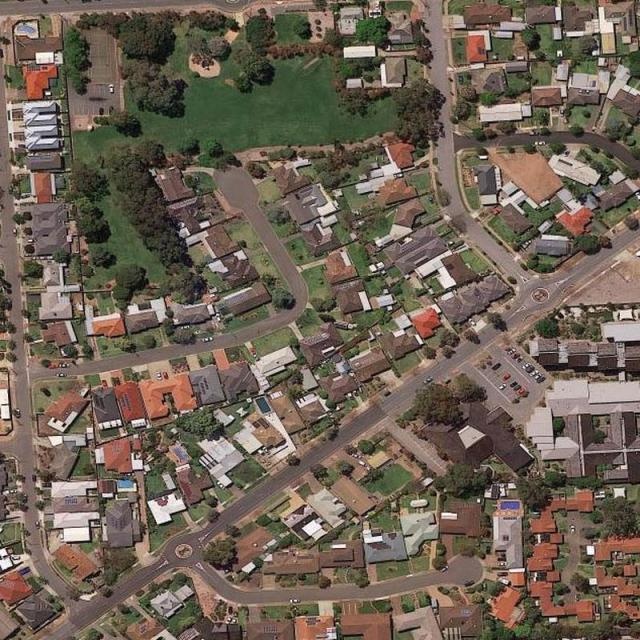vehicle: (422, 377, 434, 386), (222, 566, 233, 574), (358, 460, 369, 468), (216, 481, 226, 489), (289, 598, 302, 604), (261, 446, 269, 455), (440, 566, 449, 574), (11, 227, 17, 238), (521, 362, 532, 368), (570, 524, 576, 535), (468, 318, 476, 326), (492, 362, 500, 370), (529, 369, 538, 376), (202, 337, 214, 342), (156, 371, 162, 381), (534, 141, 546, 146), (6, 489, 18, 494), (352, 453, 362, 459), (215, 314, 222, 322), (498, 383, 506, 390), (31, 474, 38, 482), (226, 615, 233, 623), (517, 388, 525, 395), (180, 325, 191, 330), (15, 407, 20, 418), (536, 376, 545, 382), (506, 348, 516, 353), (524, 366, 534, 371), (635, 192, 640, 202), (35, 518, 40, 528), (502, 373, 510, 379), (98, 107, 104, 115), (109, 84, 114, 93), (57, 372, 66, 377), (58, 363, 69, 367), (510, 353, 518, 358), (514, 356, 522, 361), (533, 373, 541, 378), (163, 371, 168, 379), (498, 562, 507, 566), (486, 546, 490, 555), (514, 384, 520, 390), (510, 381, 517, 386)
